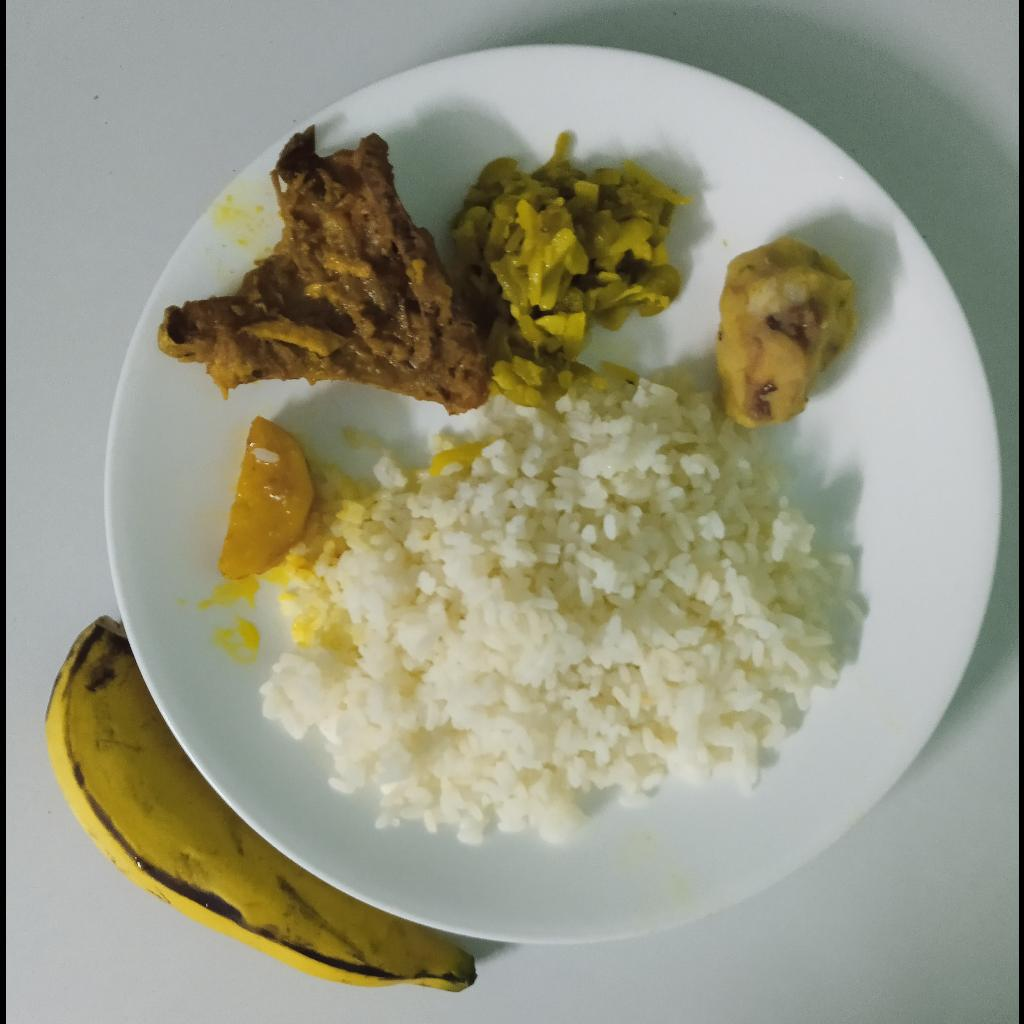banana: (42, 616, 477, 993)
chicken: (156, 124, 489, 419)
dundol: (447, 134, 692, 410)
potato: (216, 415, 314, 579)
potato-mashed: (716, 236, 854, 429)
rice: (260, 366, 853, 848)
